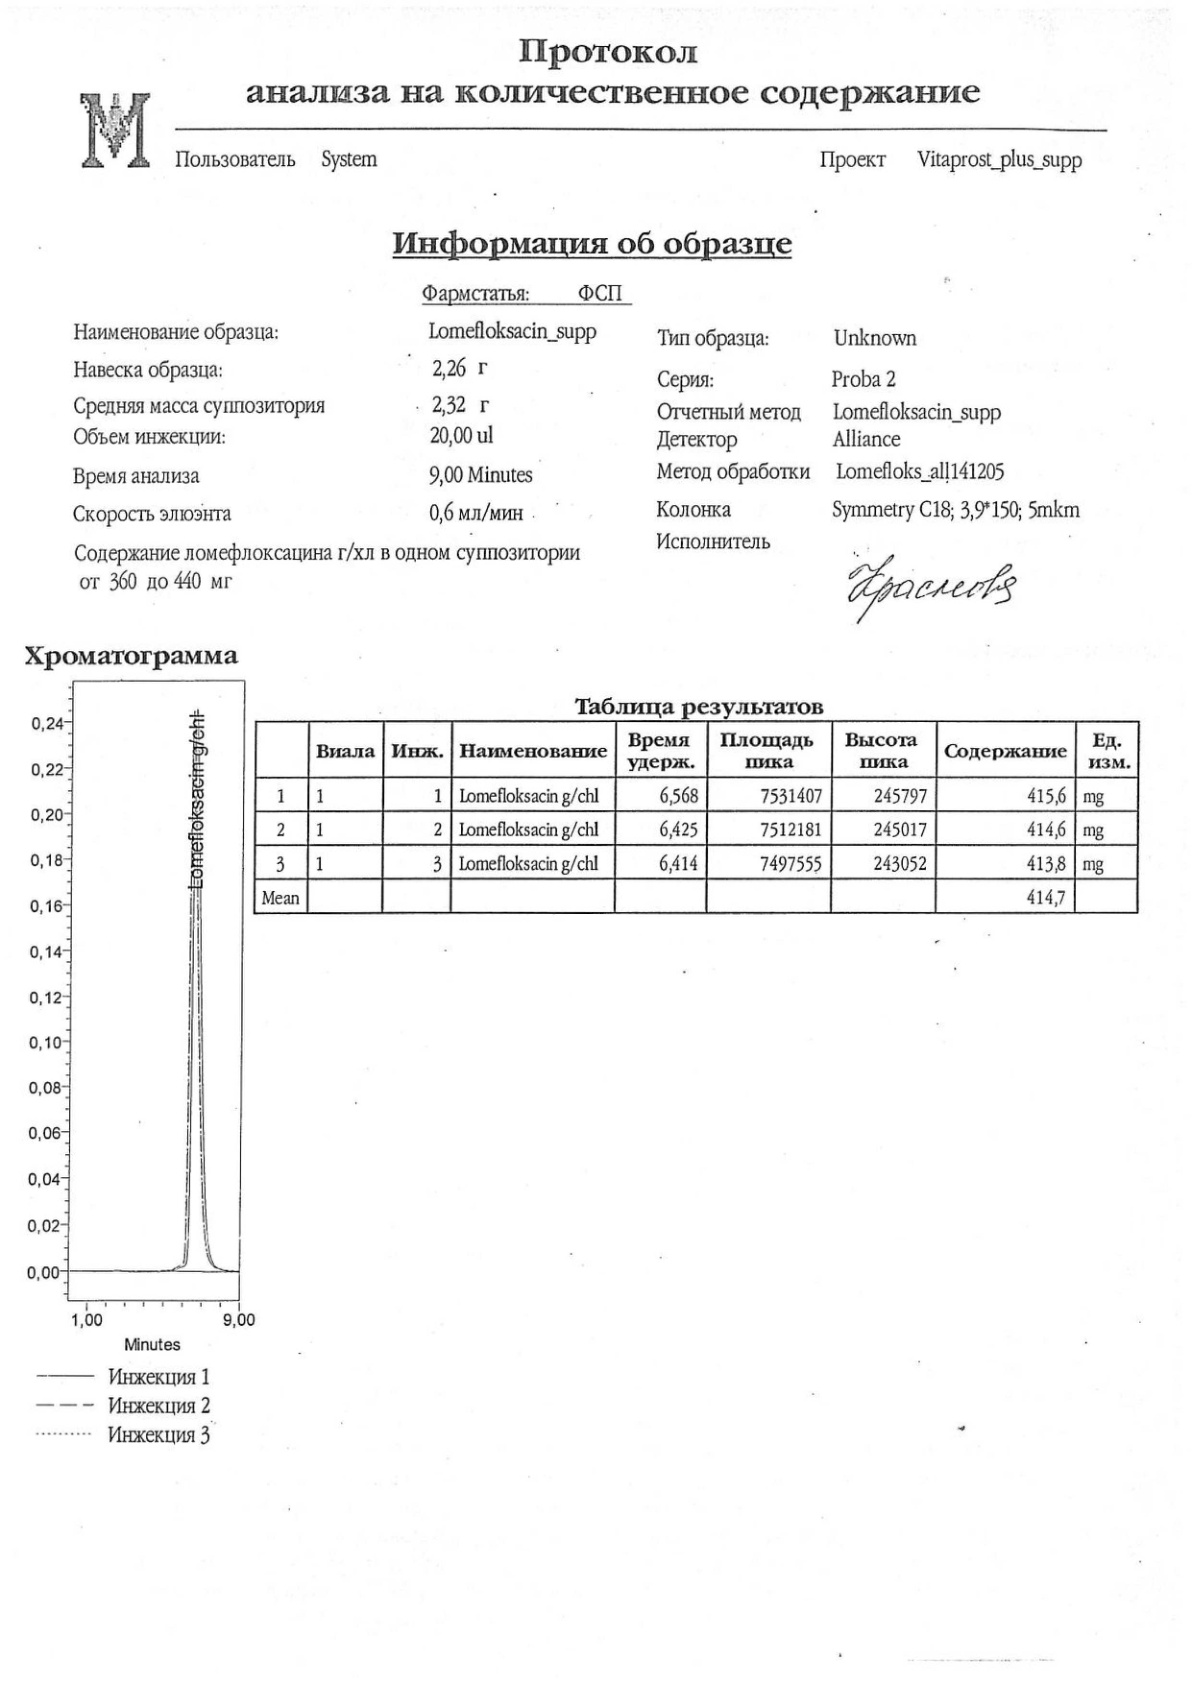full_lined: (252, 718, 1139, 915)
nolines: (68, 316, 1086, 594)
